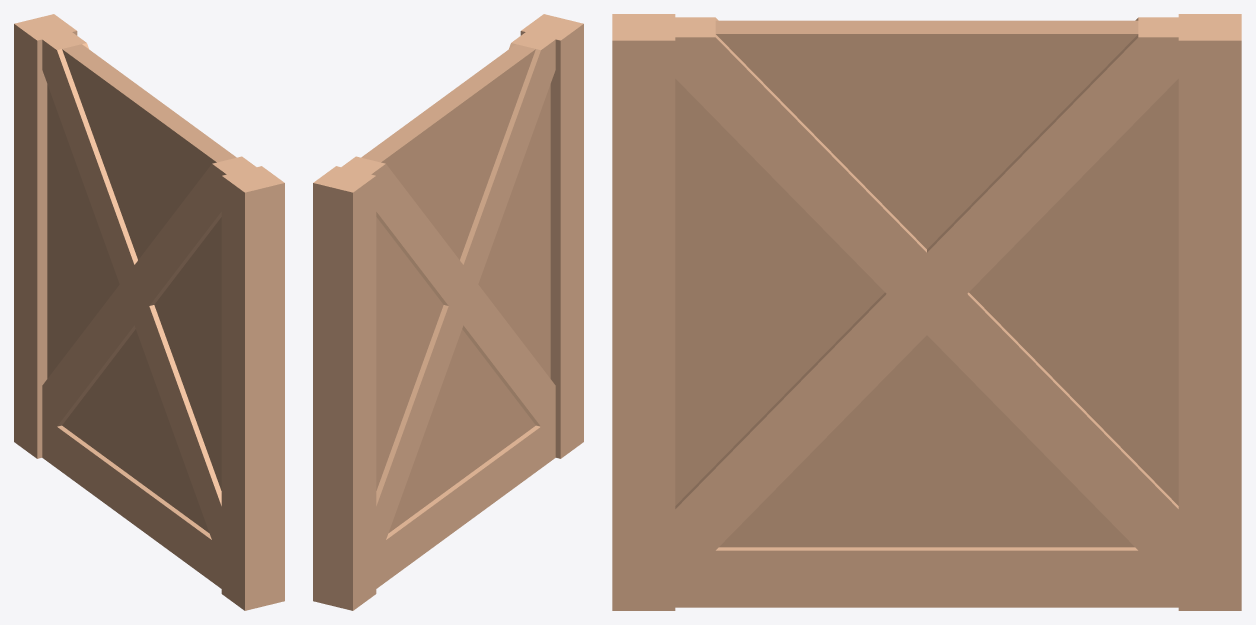
The model's file is wallWoodDetailCross.glb.
3 views of the same model, side by side, from view 1: azimuth 30°, elevation 25°; view 2: azimuth 150°, elevation 25°; view 3: azimuth 270°, elevation 25° (orthographic). The views are drawn at different scales.
Parts seen in each view (by area): view 1: wallWoodDetailCross; view 2: wallWoodDetailCross; view 3: wallWoodDetailCross.
Part boxes in pixels (box(x1,y1,x2,y2)): wallWoodDetailCross: box(14, 14, 284, 610); wallWoodDetailCross: box(313, 14, 583, 610); wallWoodDetailCross: box(612, 14, 1241, 610).
Size of the model in its own units: 0.1 by 1 by 1.
